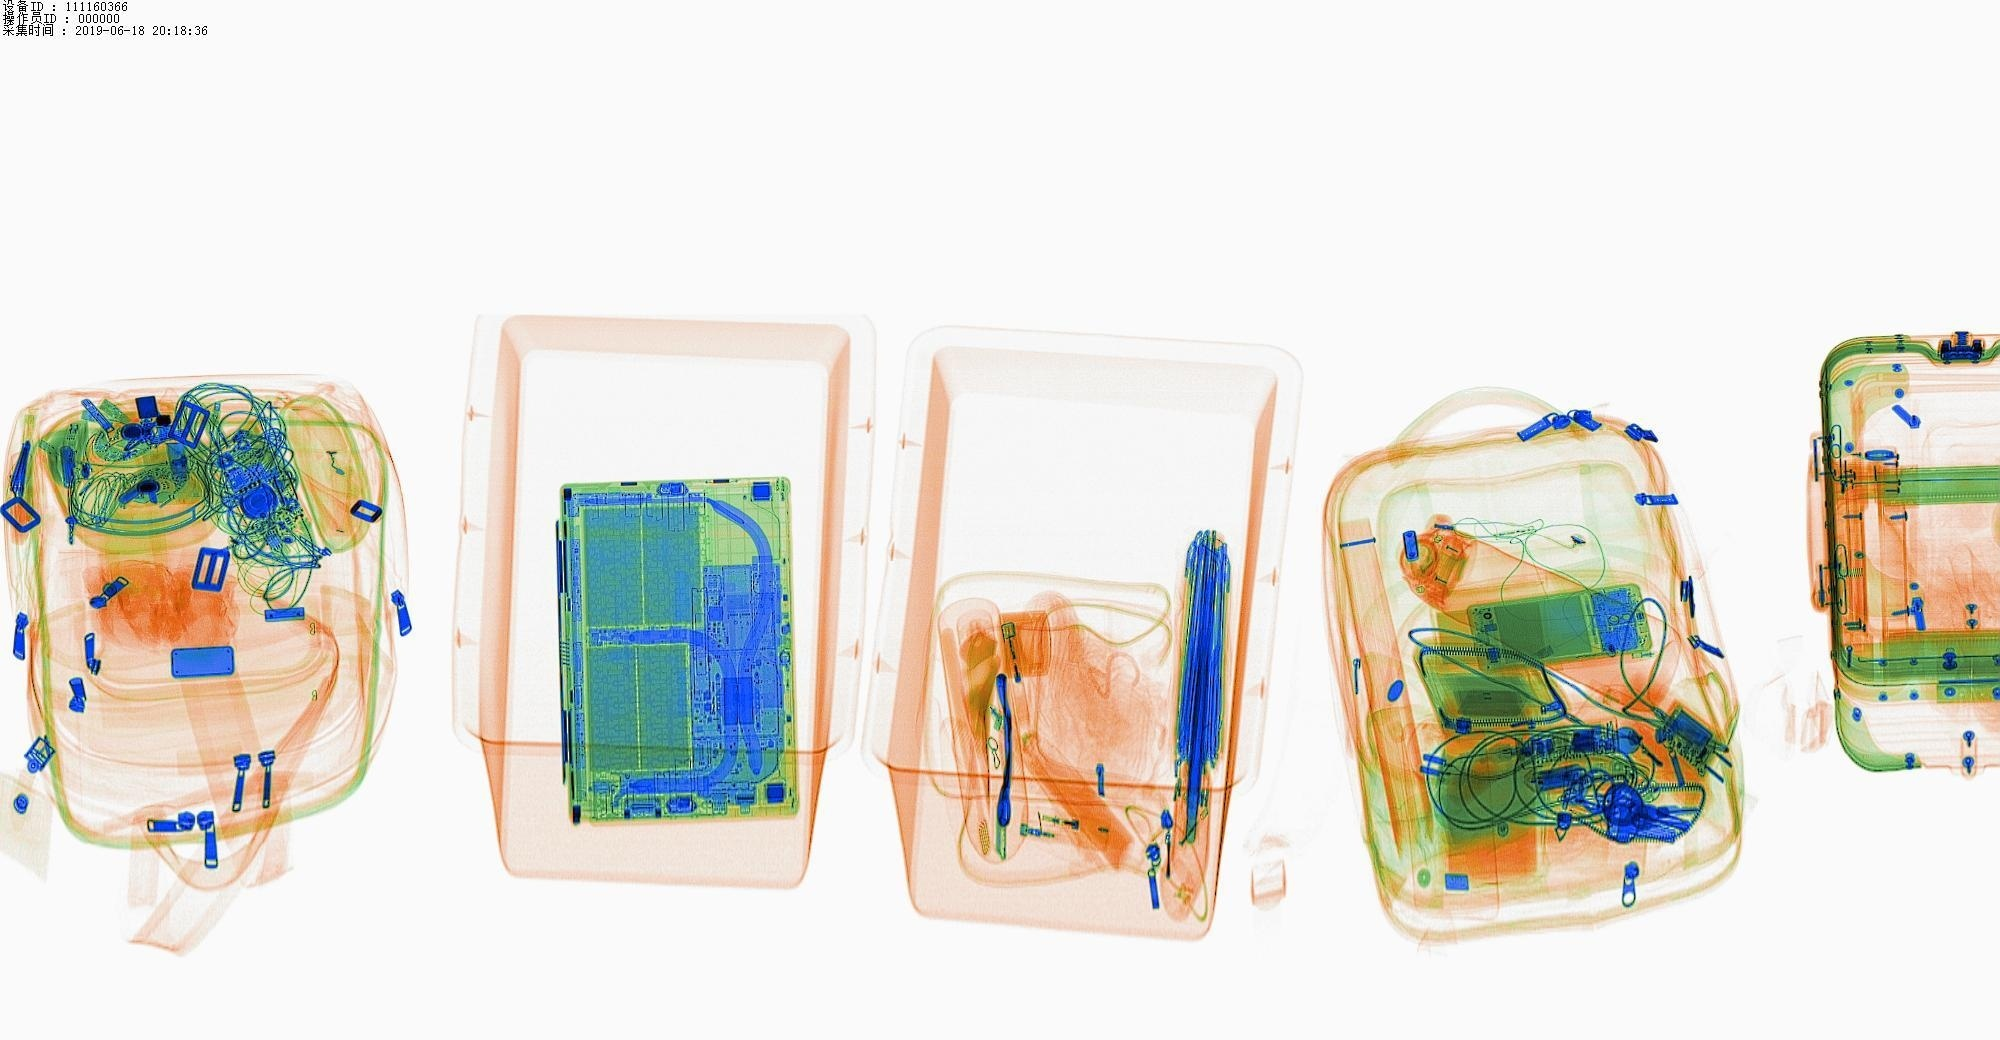NonmetallicFire: (1013, 798, 1136, 865), (996, 606, 1052, 728)
